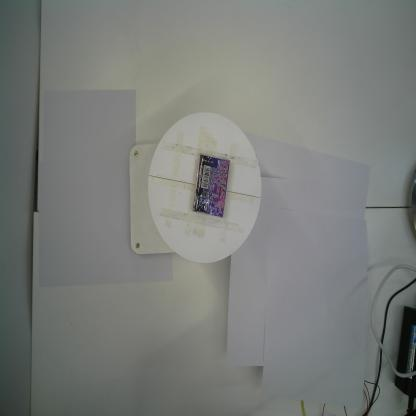Gum: (192, 153, 230, 218)
